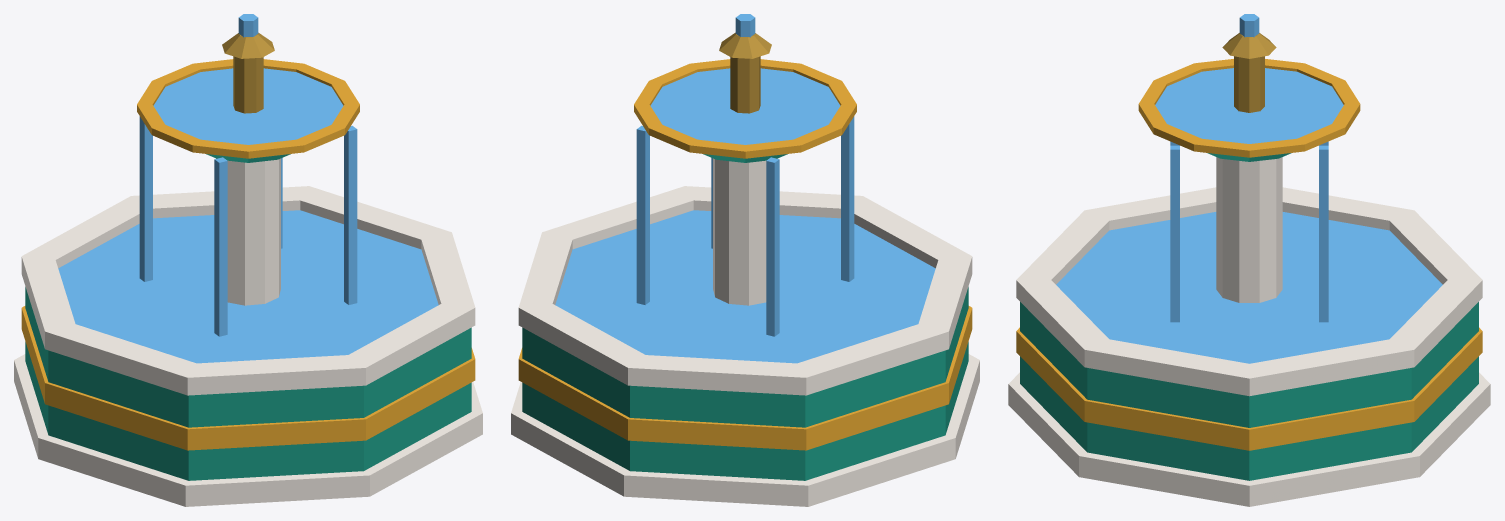
File: CatCafe_Decor_OasisFountain.glb
3 views of the same model, side by side, from view 1: azimuth 30°, elevation 25°; view 2: azimuth 150°, elevation 25°; view 3: azimuth 270°, elevation 25° (orthographic).
Parts seen in each view (by area): view 1: CatCafe_Decor_OasisFountain, CatCafe_Decor_OasisFountain_Water; view 2: CatCafe_Decor_OasisFountain, CatCafe_Decor_OasisFountain_Water; view 3: CatCafe_Decor_OasisFountain, CatCafe_Decor_OasisFountain_Water.
Boxes of the visible parts, <box> form: CatCafe_Decor_OasisFountain: <box>14,32,482,506</box>; CatCafe_Decor_OasisFountain_Water: <box>58,14,438,363</box>; CatCafe_Decor_OasisFountain: <box>511,32,979,506</box>; CatCafe_Decor_OasisFountain_Water: <box>555,14,935,363</box>; CatCafe_Decor_OasisFountain: <box>1008,33,1490,506</box>; CatCafe_Decor_OasisFountain_Water: <box>1056,14,1442,363</box>.
Bounding box in the file's own units: 2.48 × 2.2 × 2.48.
1 material, 1 textured.
